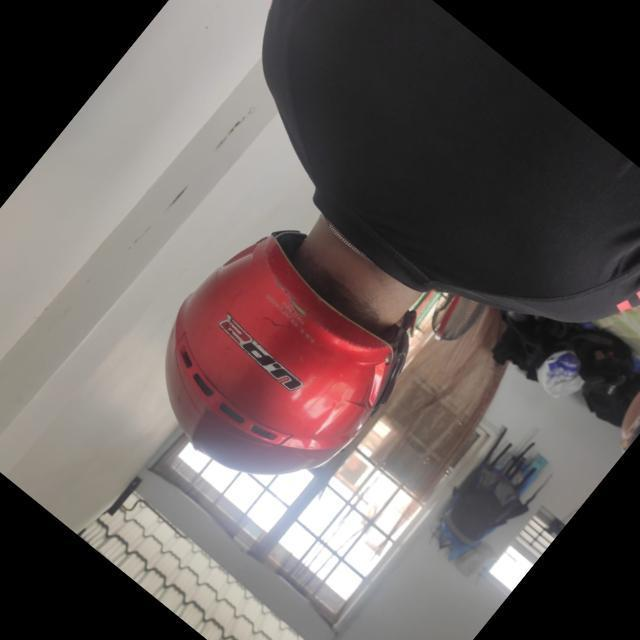with_helmet: (165, 235, 409, 476)
